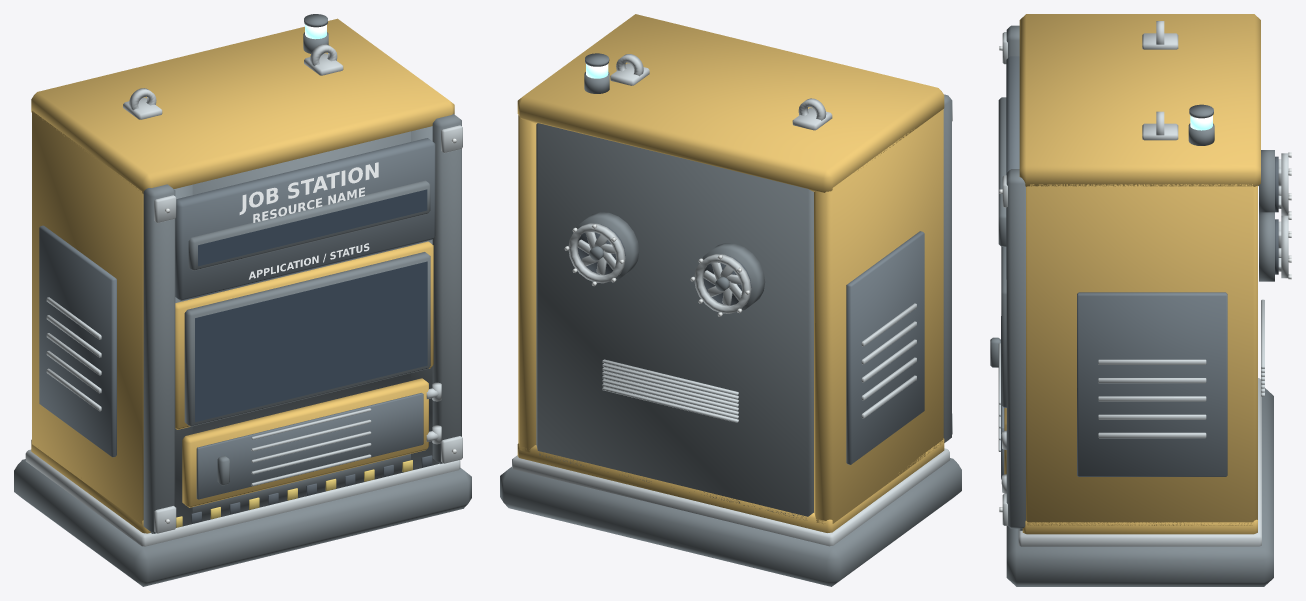
File: job_station_standard.glb
The picture shows the model from 3 angles, left to right: view 1: azimuth 30°, elevation 25°; view 2: azimuth 150°, elevation 25°; view 3: azimuth 270°, elevation 25°; orthographic projection. The views are drawn at different scales.
Visible parts, largest first — view 1: Roof_gold, LiveViewSurface_glass, SideWall_gold, CornerPost_frame, Skid_frame, FrontHeader_graphite, SideServicePanel_graphite, DoorMoving_Inset_graphite, DoorMoving_Panel_gold, SkidDeck_steel, LiveViewSurfaceFrame_frame, ResourceNameSurface_glass (+15 smaller); view 2: BackWall_frame, Roof_gold, SideWall_gold, Skid_frame, SideServicePanel_graphite, SkidDeck_steel, KickPlate_gold, RearFan_steel, RearVent_steel, CornerPost_frame, RearFan_frame, SideLouver_steel (+3 smaller); view 3: SideWall_gold, Roof_gold, SideServicePanel_graphite, Skid_frame, CornerPost_frame, SkidDeck_steel, SideLouver_steel, KickPlate_gold, RearFan_frame, FrontHeader_graphite, RearFan_steel, ResourceNameSurfaceFrame_frame (+6 smaller).
Boxes of the visible parts, <box> form: Roof_gold: <box>31,18,454,193</box>; LiveViewSurface_glass: <box>195,261,427,422</box>; SideWall_gold: <box>32,111,143,524</box>; CornerPost_frame: <box>143,114,461,533</box>; Skid_frame: <box>14,459,471,586</box>; FrontHeader_graphite: <box>175,138,435,300</box>; SideServicePanel_graphite: <box>39,225,116,457</box>; DoorMoving_Inset_graphite: <box>196,393,423,499</box>; DoorMoving_Panel_gold: <box>182,378,428,507</box>; SkidDeck_steel: <box>25,449,460,546</box>; LiveViewSurfaceFrame_frame: <box>184,252,430,426</box>; ResourceNameSurface_glass: <box>198,189,427,266</box>; BackWall_frame: <box>536,123,813,519</box>; Roof_gold: <box>517,14,944,192</box>; SideWall_gold: <box>518,109,943,523</box>; Skid_frame: <box>500,458,961,586</box>; SideServicePanel_graphite: <box>846,231,924,464</box>; SkidDeck_steel: <box>512,448,949,546</box>; KickPlate_gold: <box>517,438,944,532</box>; RearFan_steel: <box>568,223,751,313</box>; RearVent_steel: <box>602,359,738,422</box>; CornerPost_frame: <box>943,94,951,442</box>; RearFan_frame: <box>576,212,765,312</box>; SideLouver_steel: <box>861,303,916,418</box>; SideWall_gold: <box>1026,184,1257,525</box>; Roof_gold: <box>1019,14,1260,186</box>; SideServicePanel_graphite: <box>1077,292,1227,476</box>; Skid_frame: <box>1006,388,1273,586</box>; CornerPost_frame: <box>1006,25,1025,528</box>; SkidDeck_steel: <box>1018,378,1261,546</box>; SideLouver_steel: <box>1098,359,1206,438</box>; KickPlate_gold: <box>1022,519,1257,534</box>; RearFan_frame: <box>1259,150,1274,281</box>; FrontHeader_graphite: <box>1006,56,1019,279</box>; RearFan_steel: <box>1278,153,1288,278</box>; ResourceNameSurfaceFrame_frame: <box>998,97,1006,246</box>.
Size of the model in its own units: 2 by 2.48 by 1.51.
